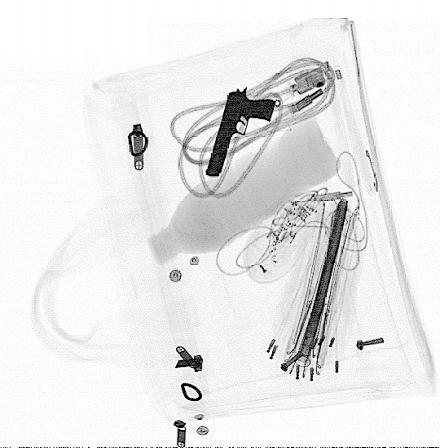Gun: (206, 86, 276, 176)
